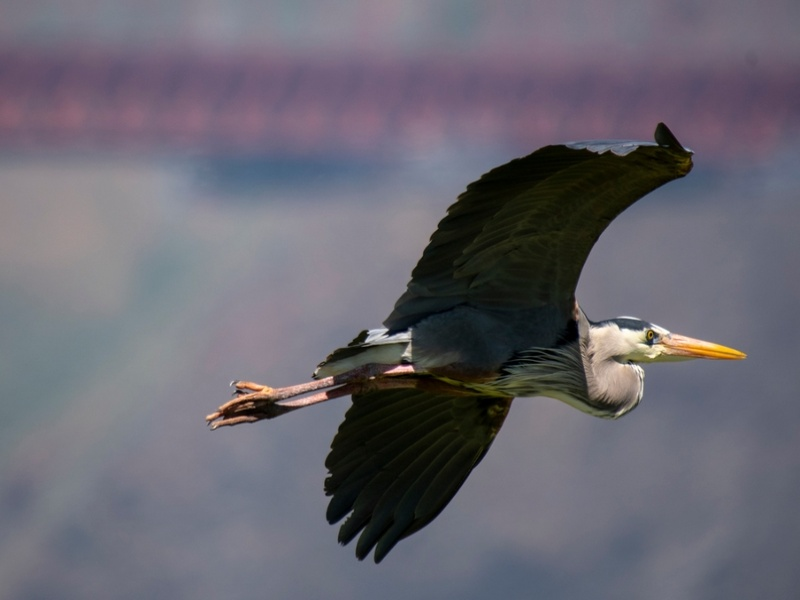heron: (193, 123, 750, 571)
